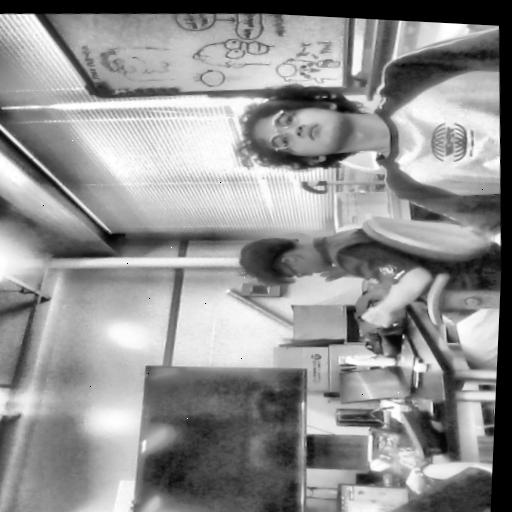Daifuku: (234, 79, 359, 179)
Not Daifuku: (235, 228, 335, 284), (235, 508, 353, 512)
